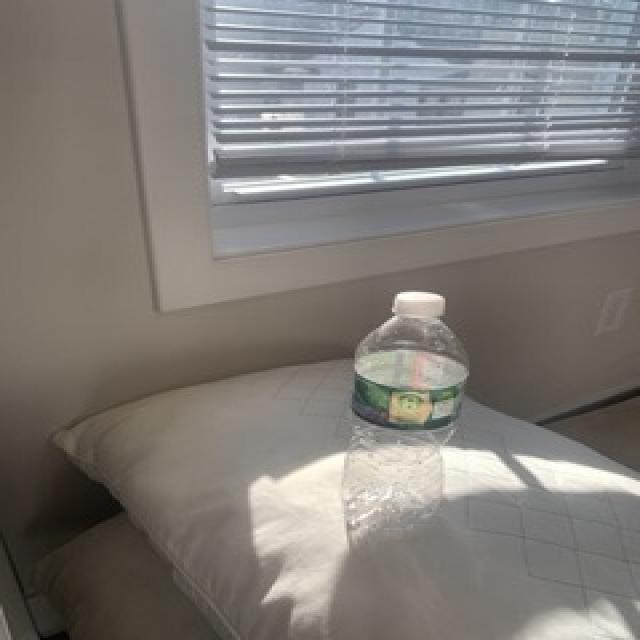water_bottle: (332, 285, 473, 538)
